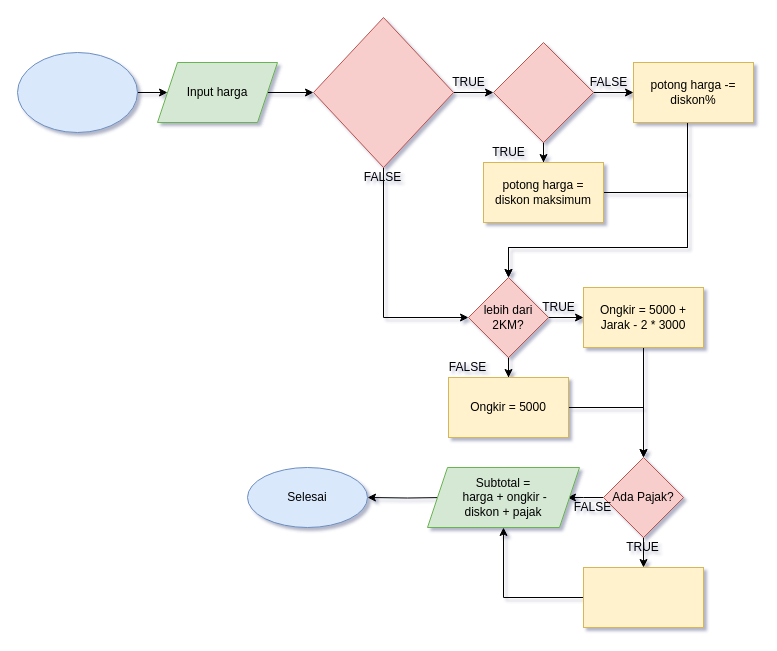
The diagram is 777 pixels wide and 651 high, and some of its shapes have lost their labels. Here are the shapes that lost their labels. From the top down, the centre of each, then its label:
At (77,92): "Start".
At (383,92): "voucher && memenuhi minimum pembelian".
At (543,92): "melebihi diskon maksimum?".
At (643,597): "Pajak = 5% dari harga".
